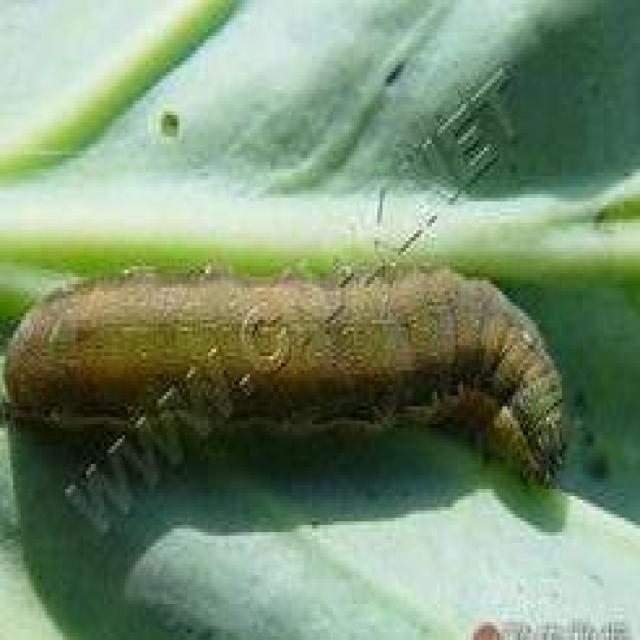BeetArmyWorm-Larva-: (2, 225, 591, 495)
